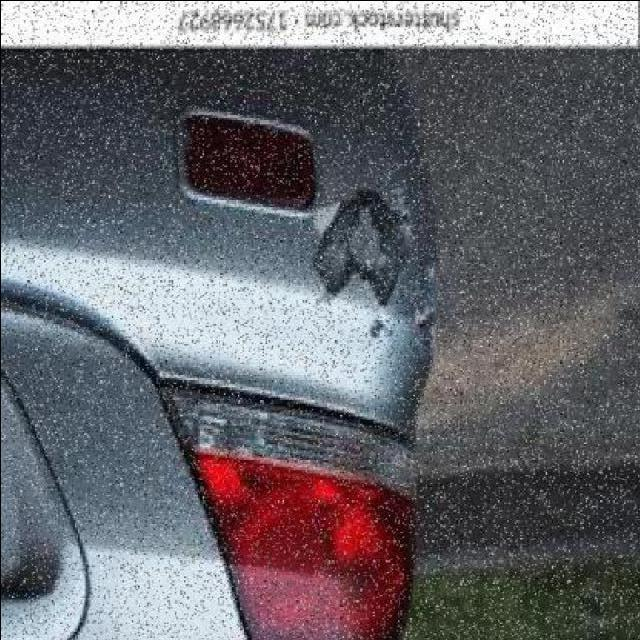rear-bumper-dent: (103, 51, 495, 454)
